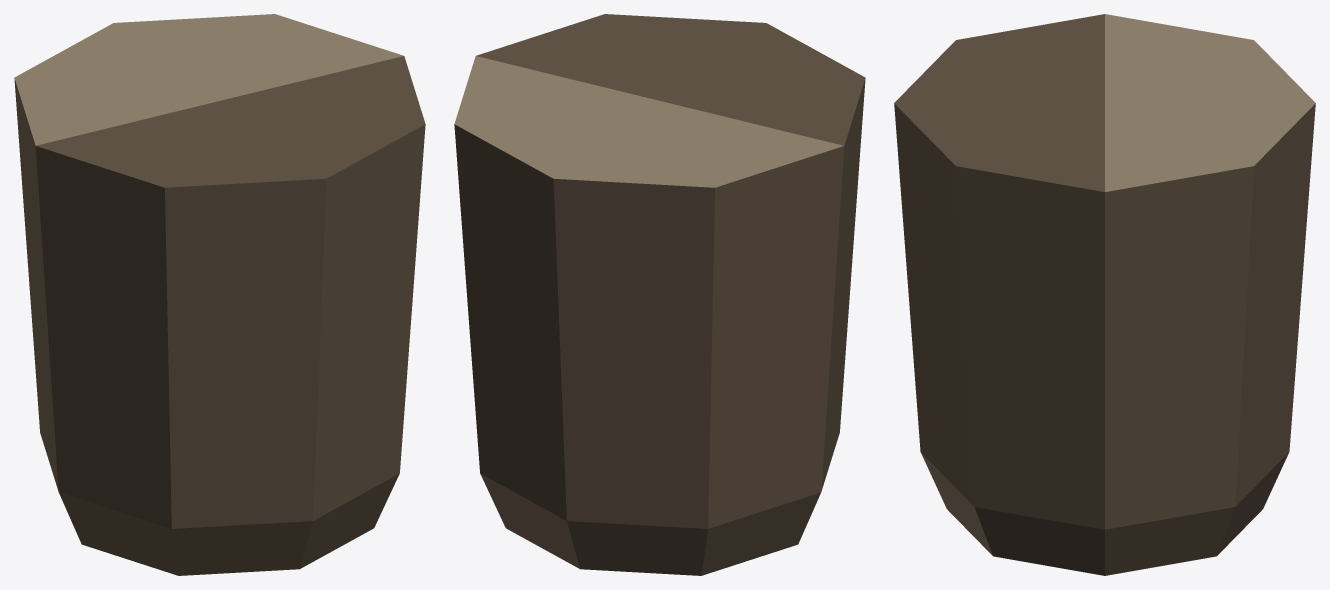
The model's file is TeaCup.glb.
The picture shows the model from 3 angles, left to right: view 1: azimuth 30°, elevation 25°; view 2: azimuth 150°, elevation 25°; view 3: azimuth 270°, elevation 25°; orthographic projection.
Visible parts, largest first — view 1: TeaCup; view 2: TeaCup; view 3: TeaCup.
Part boxes in pixels (left/top/right/bottom): TeaCup: left=14, top=14, right=425, bottom=575; TeaCup: left=454, top=14, right=865, bottom=575; TeaCup: left=894, top=14, right=1315, bottom=575.
Bounding box in the file's own units: 0.08 × 0.085 × 0.08.
1 material, 1 textured.
